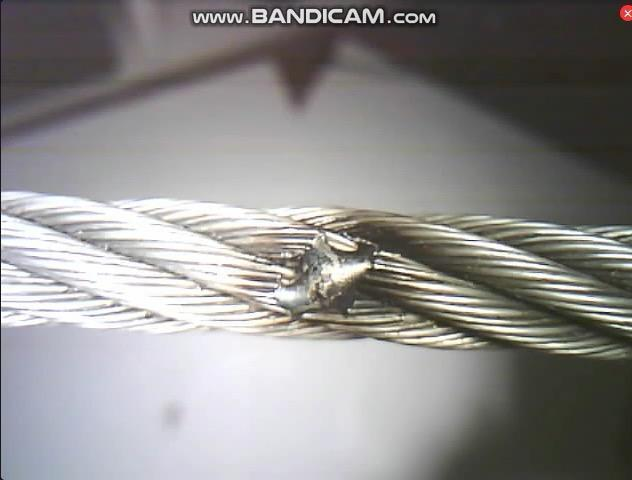thunderbolt: (254, 225, 387, 325)
